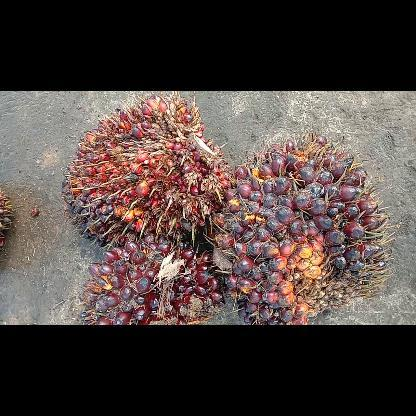Kurang masak: (210, 132, 390, 324), (78, 238, 222, 324)
TBS masak: (61, 92, 233, 246)
